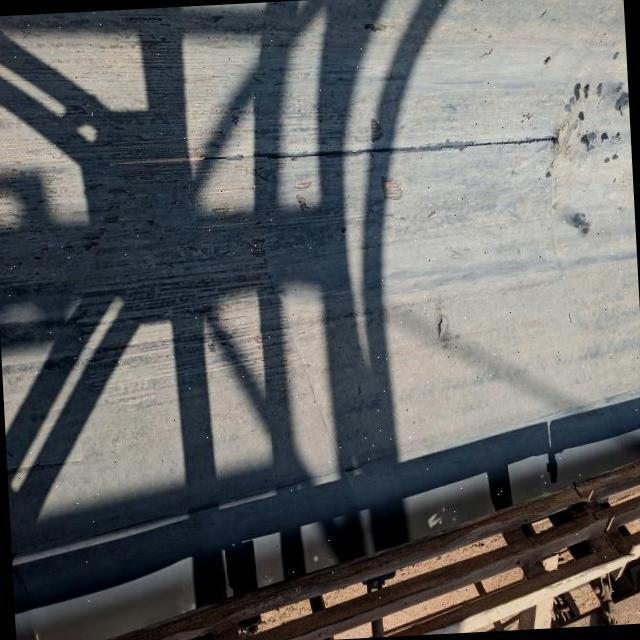Impact Damage: (377, 172, 408, 203), (365, 115, 386, 144)
Tear: (104, 131, 560, 169), (434, 312, 449, 339), (353, 380, 369, 400)
